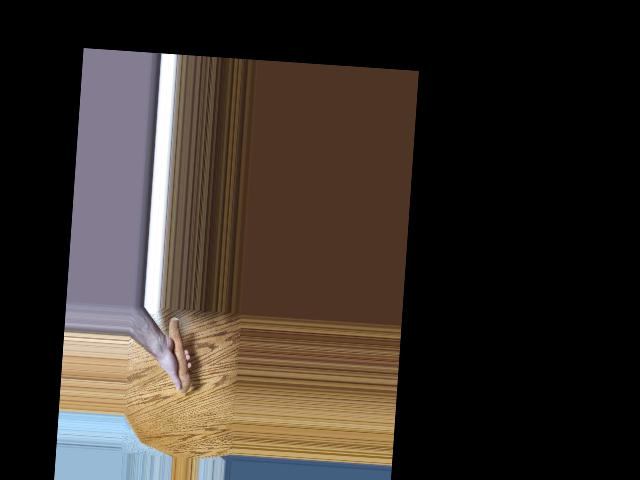sweet_potato: (163, 316, 195, 392)
